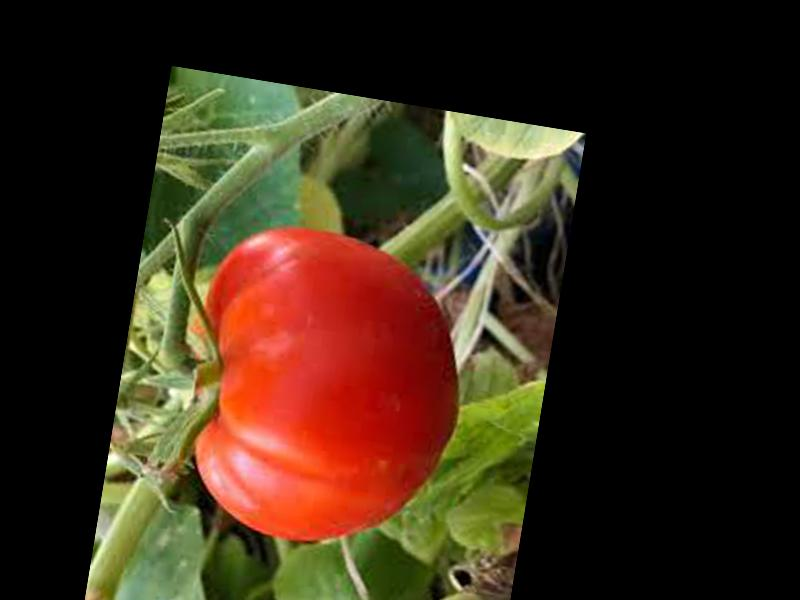Tomato: (171, 211, 480, 562)
